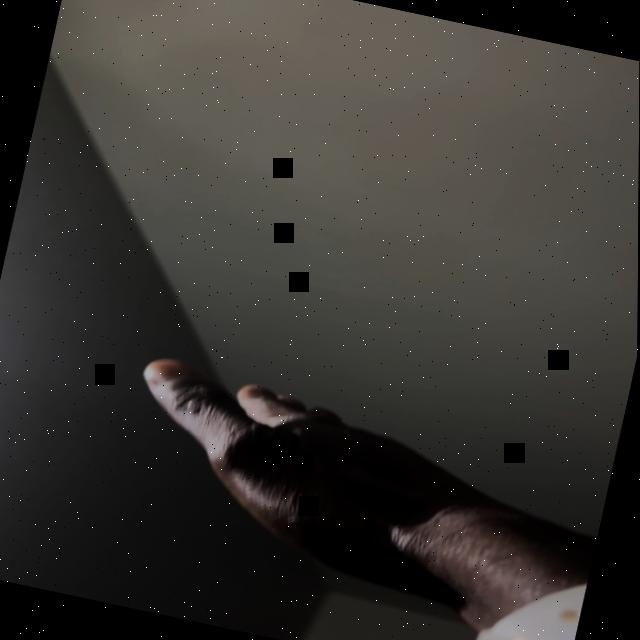Paper: (107, 353, 506, 611)
